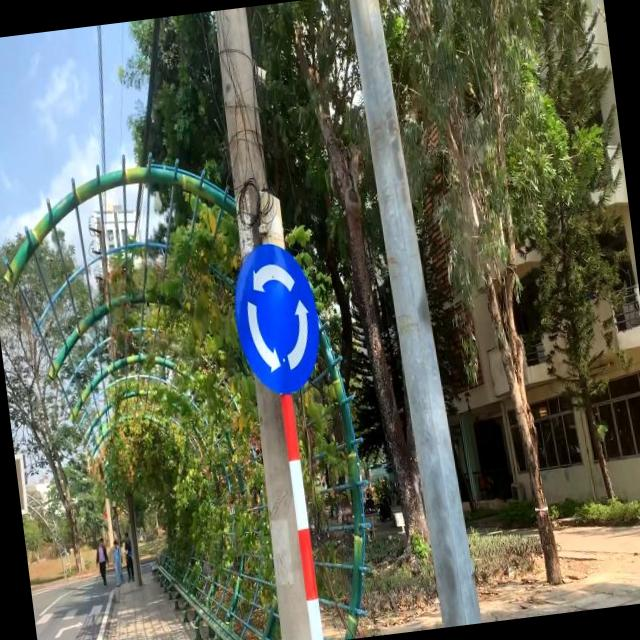R-303: (225, 238, 326, 400)
